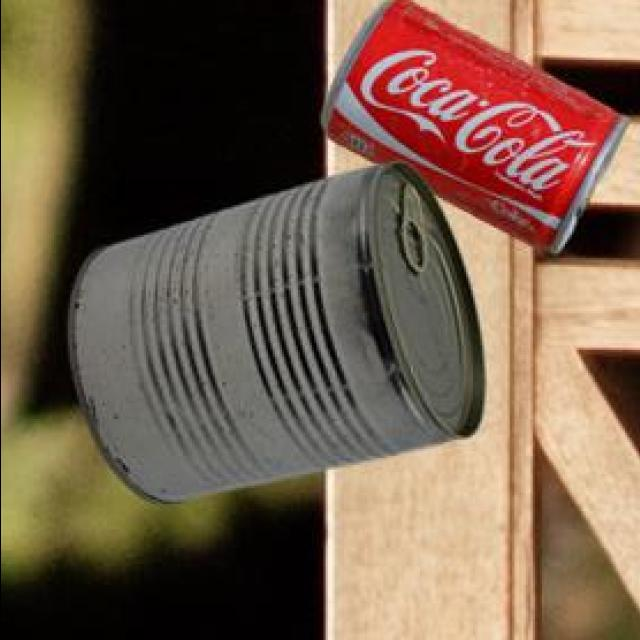logam: (66, 165, 480, 508), (317, 1, 623, 257)
